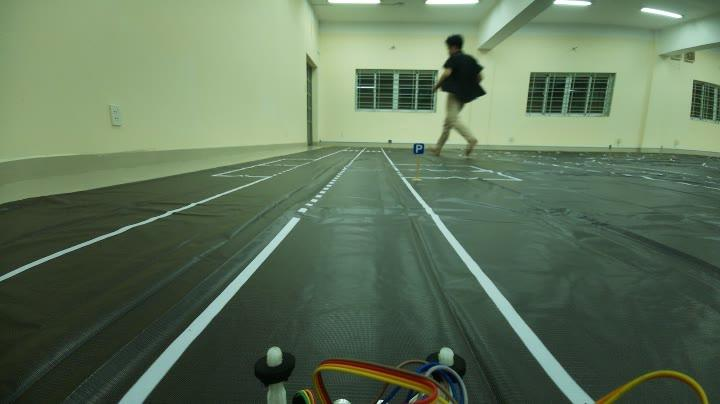parking: (410, 137, 425, 159)
